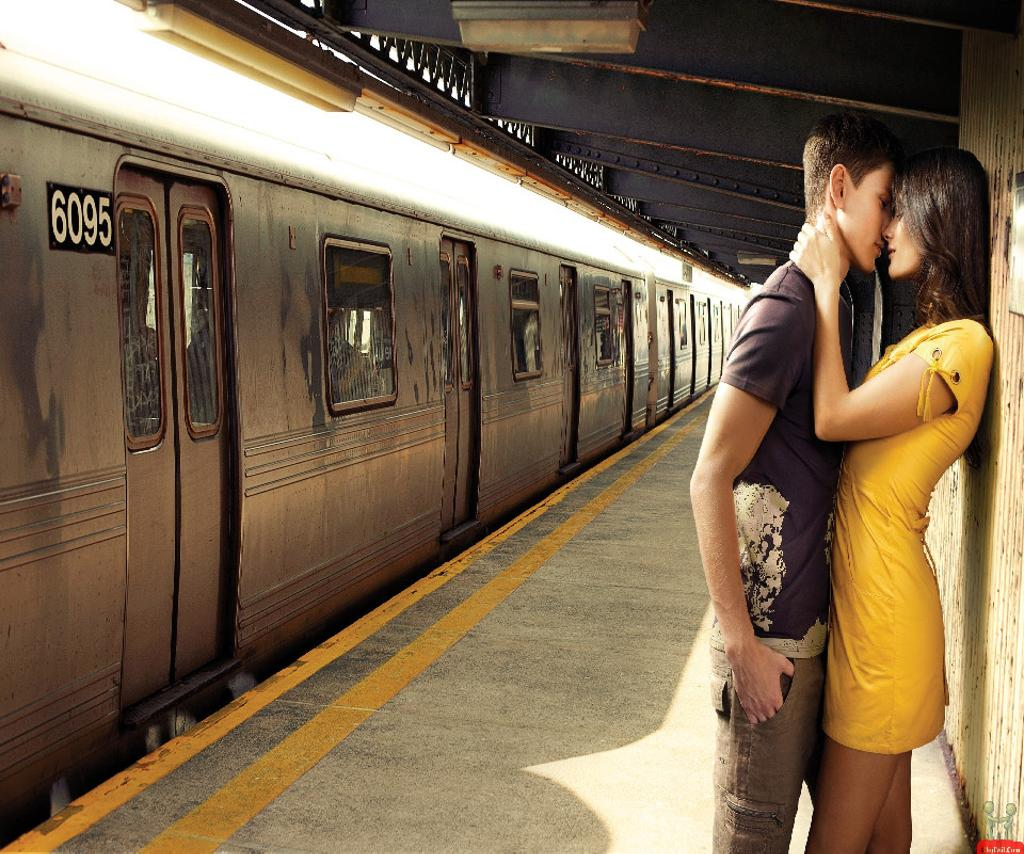face: (848, 168, 893, 273), (883, 190, 927, 279)
